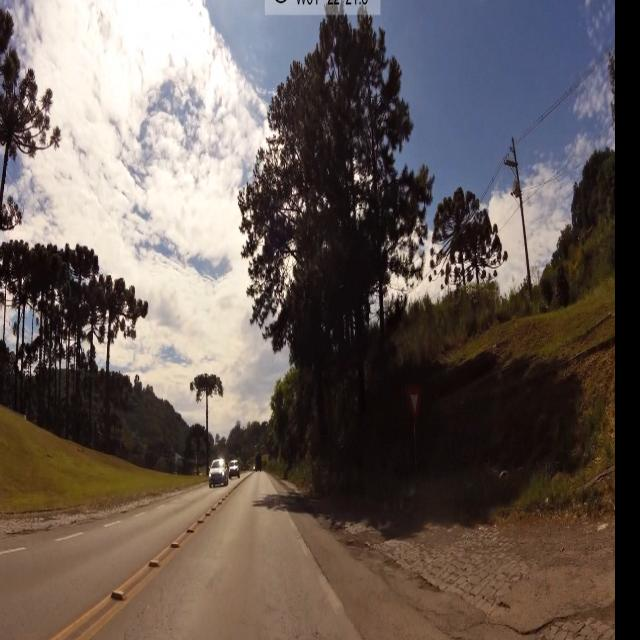R-2: (404, 380, 426, 424)
